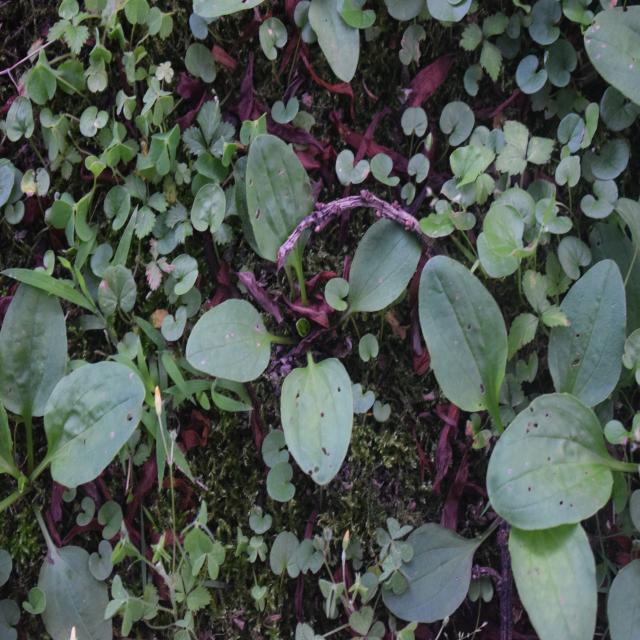plantain: (175, 131, 424, 487), (401, 246, 628, 608)
